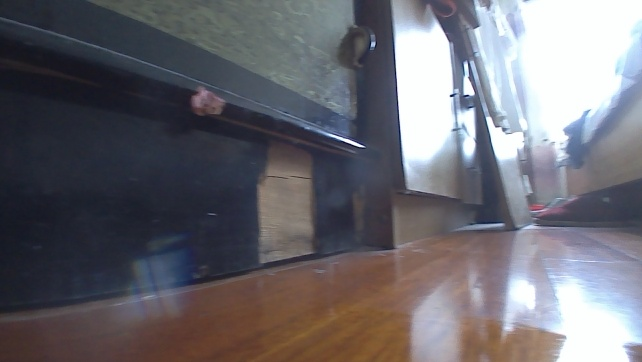bed1: (556, 24, 641, 213)
shoe: (530, 192, 631, 229)
